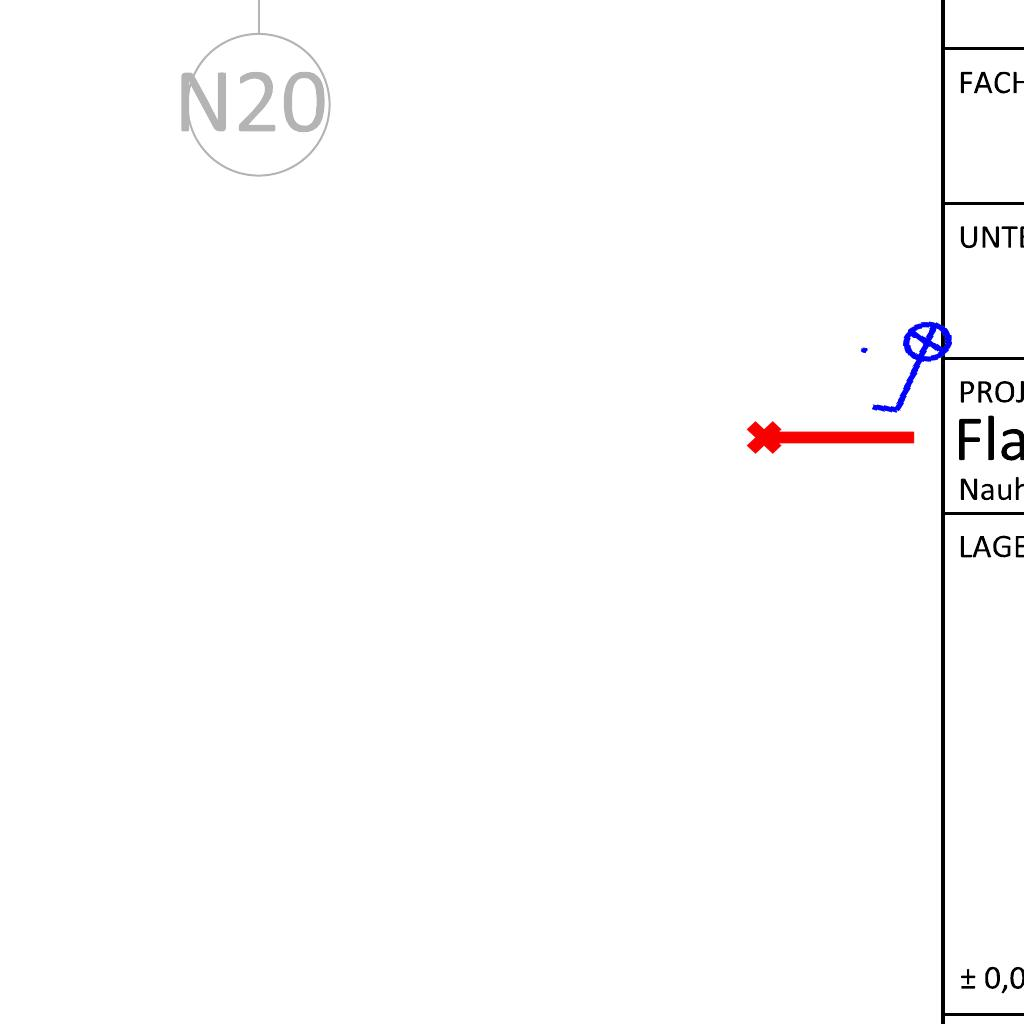ASR_Ansaugoeffnung: (744, 412, 920, 458)
Ausschalter_beleuchtet: (851, 314, 977, 426)
